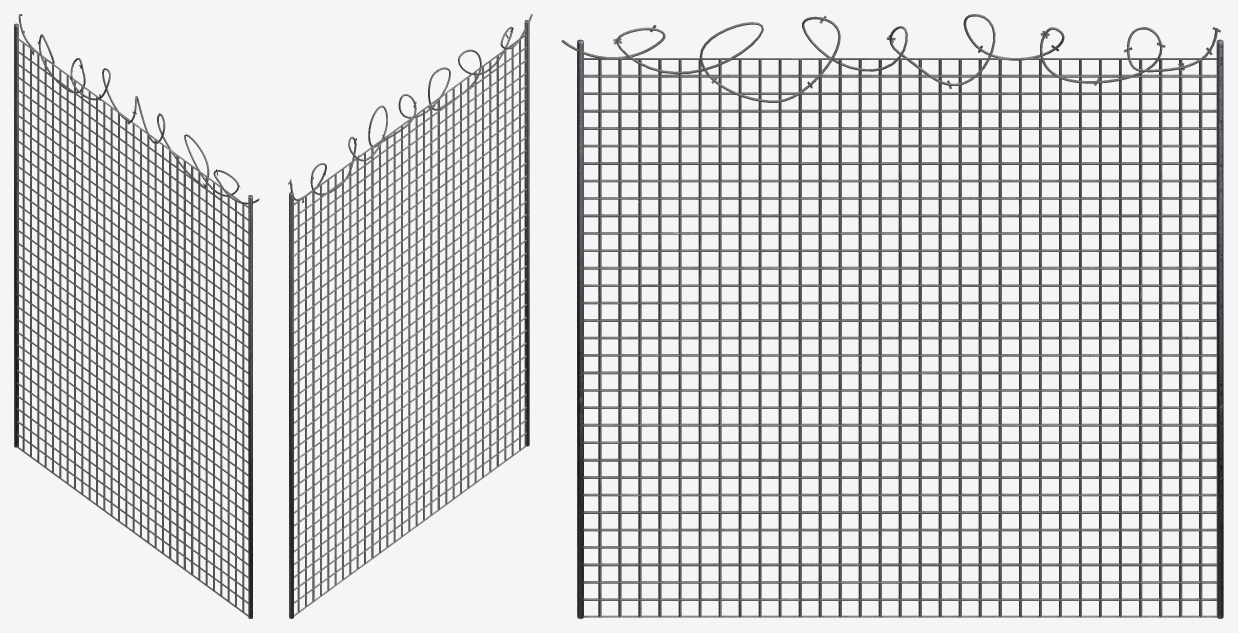
Rendered from barbedfence.fbx.
3 views of the same model, side by side, from view 1: azimuth 30°, elevation 25°; view 2: azimuth 150°, elevation 25°; view 3: azimuth 270°, elevation 25° (orthographic). The views are drawn at different scales.
Visible parts, largest first — view 1: Iron grid; view 2: Iron grid; view 3: Iron grid.
Part boxes in pixels (x1=…): Iron grid: x1=14, y1=14, x2=259, y2=618; Iron grid: x1=288, y1=14, x2=532, y2=618; Iron grid: x1=561, y1=14, x2=1223, y2=618.
Size of the model in its own units: 21.93 by 419 by 416.
1 material, 1 textured.
